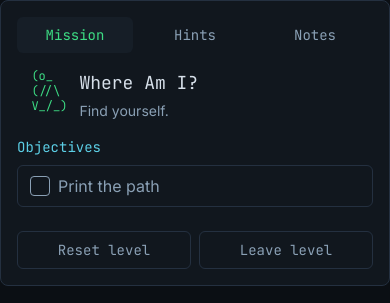
Scenario: QuestPanel › switches mobile tabs and shows level notes
Click the tab "Notes": (315, 35) 257,17 -> 373,53
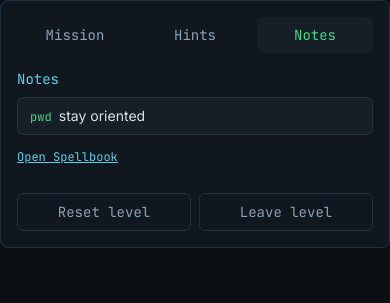
Now the list item "stay oriented" is shown, box 59,107 -> 145,124
Click the tab "Hints": (195, 35) 137,17 -> 253,53
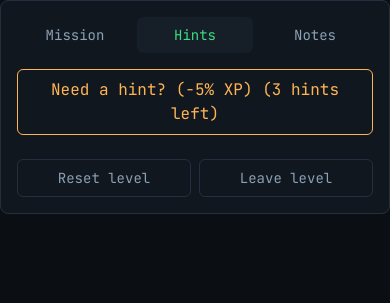
Now the button with test id "hint-button" is shown, box 17,69 -> 373,135
